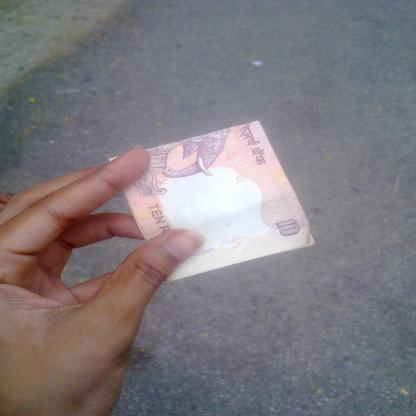Old10Back: (108, 121, 315, 282)
